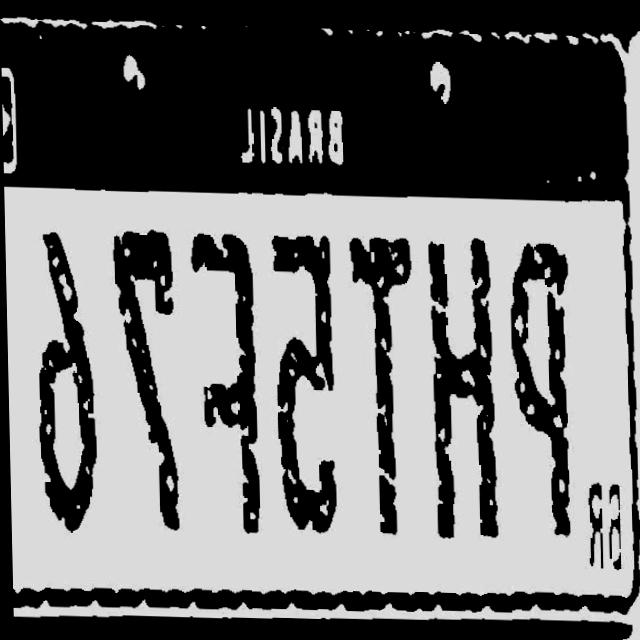5: (268, 224, 333, 540)
6: (22, 223, 100, 541)
7: (106, 212, 184, 537)
f: (178, 220, 264, 536)
h: (420, 224, 496, 546)
p: (504, 223, 578, 539)
t: (340, 214, 417, 541)
